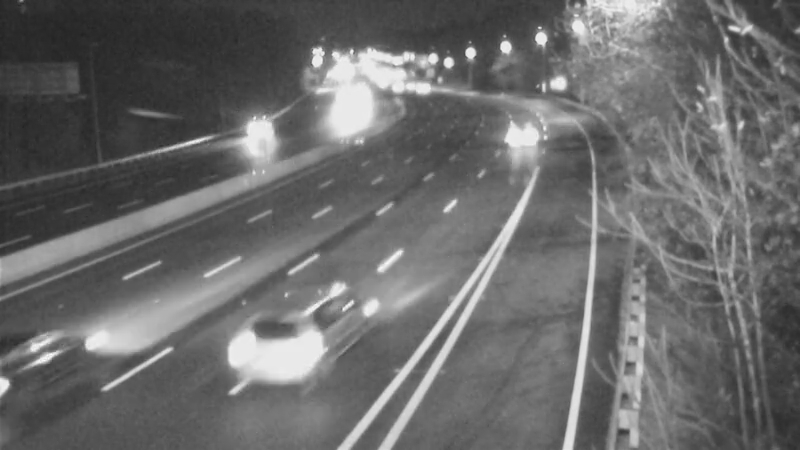vehicle: (226, 291, 336, 401), (1, 339, 86, 449), (481, 122, 531, 172), (237, 106, 287, 156)
